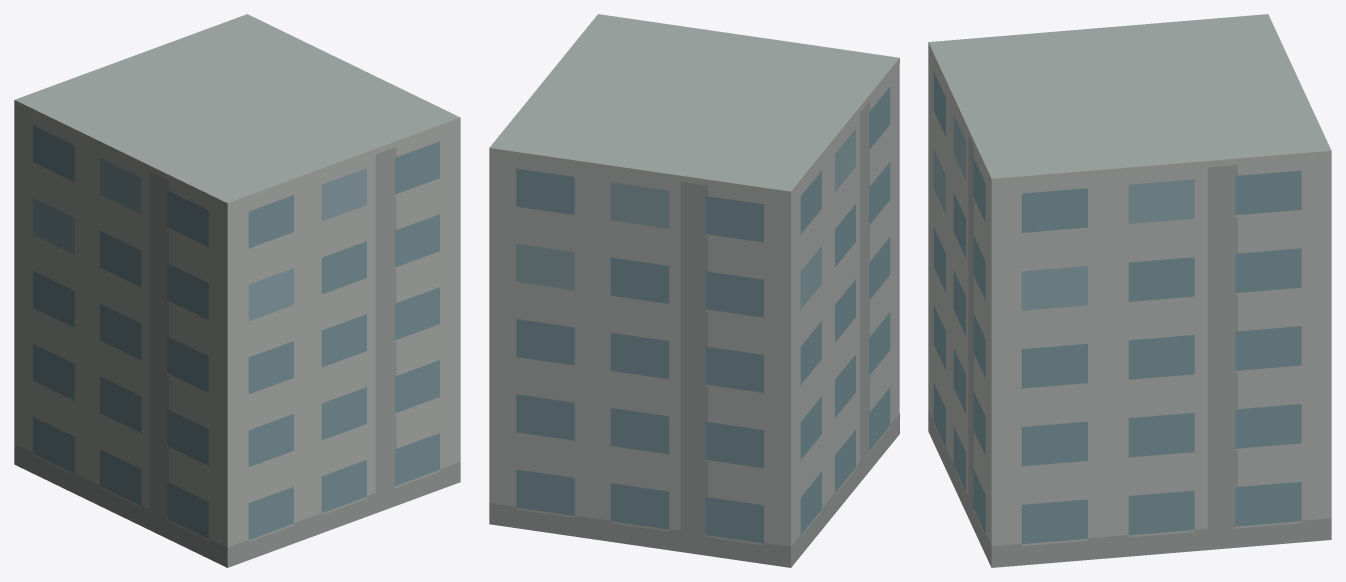
File: residential-00042ccf-f07a-4792-9050-3a4ac018706d.glb
3 views of the same model, side by side, from view 1: azimuth 30°, elevation 25°; view 2: azimuth 150°, elevation 25°; view 3: azimuth 270°, elevation 25° (orthographic). The views are drawn at different scales.
Visible parts, largest first — view 1: residential-00042ccf-f07a-4792-9050-3a4ac018706d.tmp; view 2: residential-00042ccf-f07a-4792-9050-3a4ac018706d.tmp; view 3: residential-00042ccf-f07a-4792-9050-3a4ac018706d.tmp.
Part boxes in pixels (bbox=[...]): residential-00042ccf-f07a-4792-9050-3a4ac018706d.tmp: bbox=[14, 14, 460, 567]; residential-00042ccf-f07a-4792-9050-3a4ac018706d.tmp: bbox=[489, 14, 899, 567]; residential-00042ccf-f07a-4792-9050-3a4ac018706d.tmp: bbox=[928, 14, 1331, 567].
Bounding box in the file's own units: 13.87 × 15.25 × 14.34.
